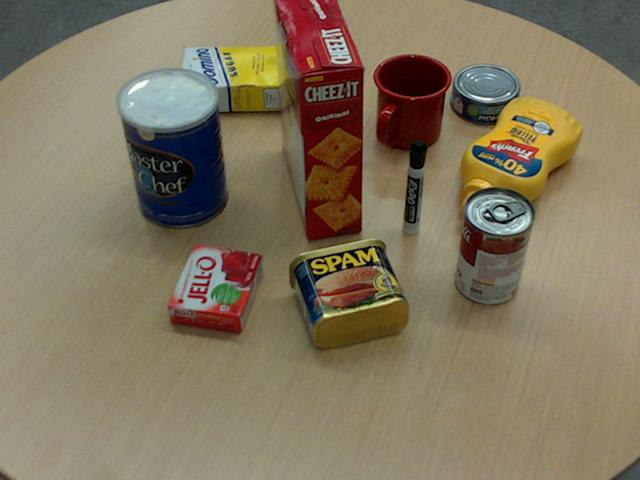cracker_box: (272, 0, 363, 238)
gelatin_box: (167, 242, 263, 331)
large_marker: (403, 141, 426, 234)
master_chef_can: (117, 67, 227, 228)
mug: (372, 53, 451, 149)
mustard_bottle: (459, 97, 580, 217)
potted_meat_can: (287, 236, 408, 346)
sugar_box: (178, 45, 320, 110)
tomato_soup_can: (455, 186, 534, 304)
tuna_fish_can: (449, 63, 519, 123)
